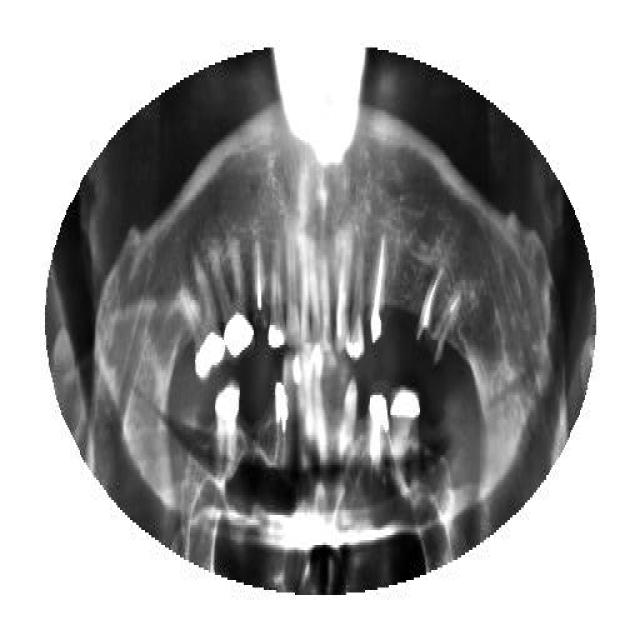Cavity: (413, 268, 462, 372), (252, 242, 268, 338)
Fillings: (181, 250, 225, 380), (211, 242, 254, 360), (390, 385, 420, 457), (269, 238, 286, 352)
Implant: (370, 225, 388, 353), (274, 375, 288, 470)
